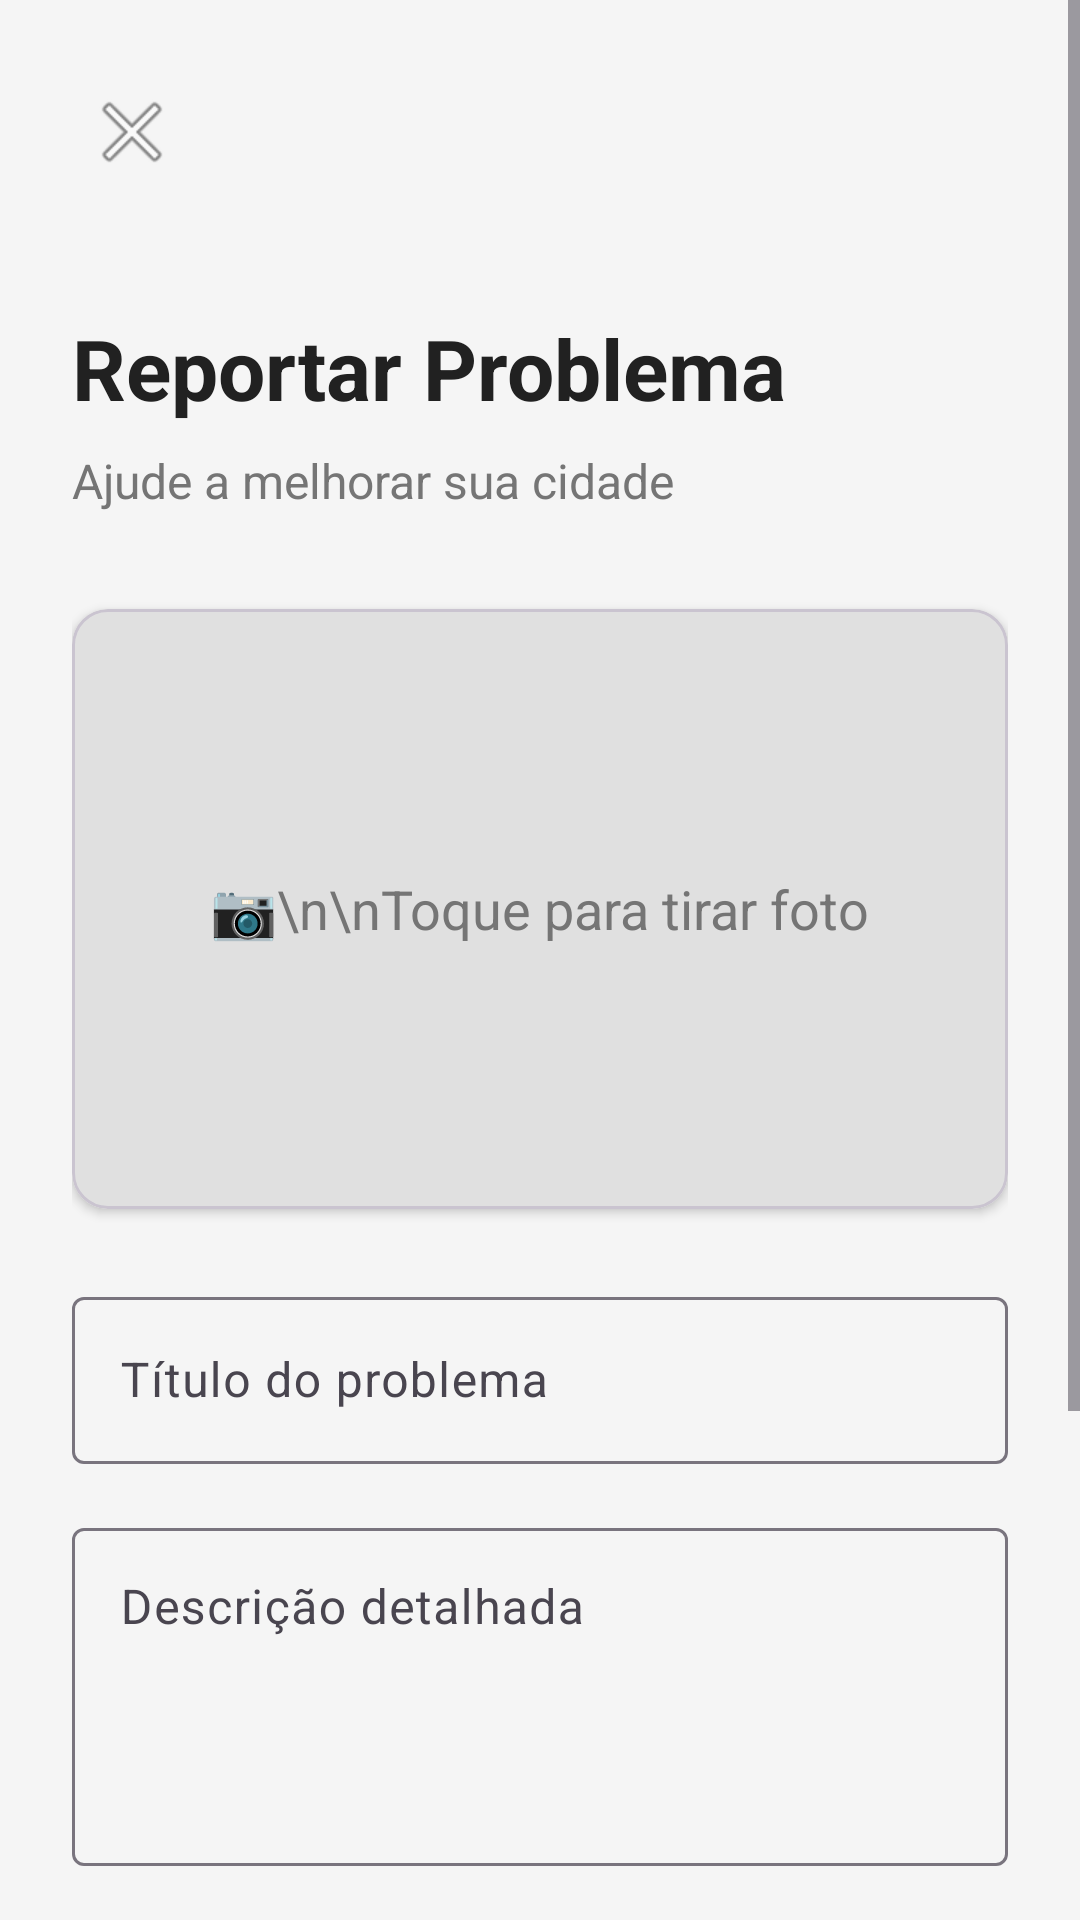

Icon bounding boxes for this 1080w x 1920h phone screenshot, format box=[x1, y1, x2, y2]:
Voltar: box=[102, 102, 162, 162]
